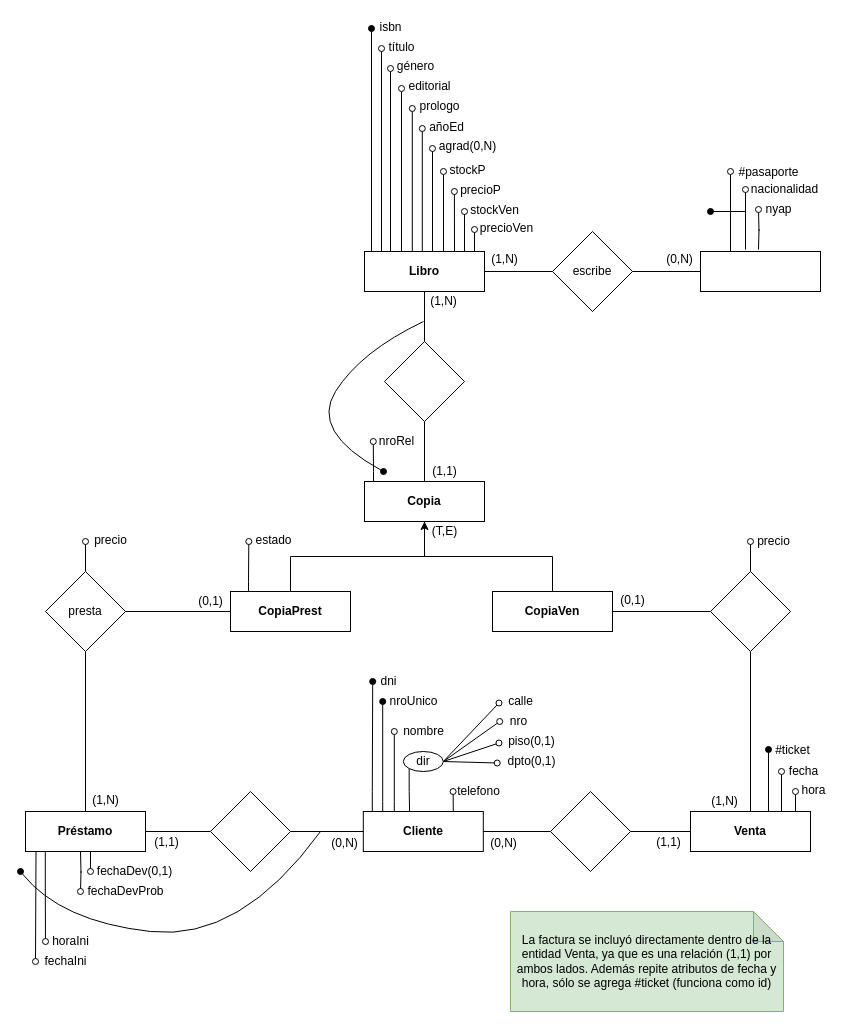
Some shapes in this 851 by 1029 pixel diagram are drawn without their labels. Each missing label, with the centre of its shape:
"adquiere" belongs at (250,831).
"Autor" belongs at (760,271).
"posee" belongs at (424,381).
"realiza" belongs at (590,831).
"vende" belongs at (750,611).
